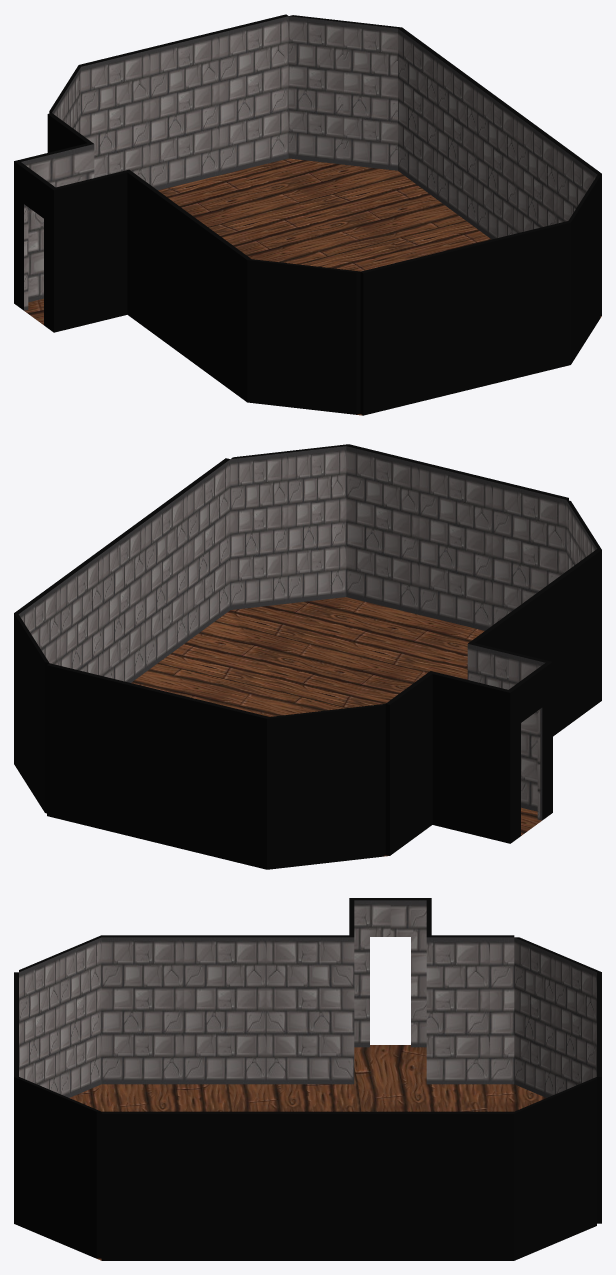
File: wall 3.fbx
3 views of the same model, one above another, from view 1: azimuth 30°, elevation 25°; view 2: azimuth 150°, elevation 25°; view 3: azimuth 270°, elevation 25° (orthographic). The views are drawn at different scales.
Parts seen in each view (by area): view 1: Plane085, Plane075, Plane079, Plane066, Plane076, Plane077, Plane070, Plane071, Plane069, Plane064, Plane063, Plane067 (+10 smaller); view 2: Plane085, Plane074, Plane080, Plane073, Plane064, Plane077, Plane069, Plane070, Plane071, Plane062, Plane076, Plane068 (+10 smaller); view 3: Plane085, Plane066, Plane073, Plane080, Plane068, Plane078, Plane082, Plane086, Plane067, Plane081, Plane083, Plane079 (+5 smaller).
Part boxes in pixels (<box>): Plane085: <box>24,158,601,415</box>; Plane075: <box>247,259,360,414</box>; Plane079: <box>288,15,401,170</box>; Plane066: <box>90,169,171,343</box>; Plane076: <box>360,254,432,415</box>; Plane077: <box>499,221,570,381</box>; Plane070: <box>217,14,288,174</box>; Plane071: <box>430,238,501,398</box>; Plane069: <box>148,31,219,190</box>; Plane064: <box>79,48,150,184</box>; Plane063: <box>34,175,92,332</box>; Plane067: <box>167,200,211,372</box>; Plane085: <box>131,597,541,856</box>; Plane074: <box>267,704,385,869</box>; Plane080: <box>230,444,347,609</box>; Plane073: <box>385,671,471,855</box>; Plane064: <box>193,699,268,869</box>; Plane077: <box>346,444,421,614</box>; Plane069: <box>120,681,195,851</box>; Plane070: <box>47,663,122,833</box>; Plane071: <box>419,462,494,630</box>; Plane062: <box>469,676,531,843</box>; Plane076: <box>493,480,568,624</box>; Plane068: <box>555,549,601,731</box>; Plane085: <box>70,1045,545,1260</box>; Plane066: <box>266,917,354,1084</box>; Plane073: <box>426,917,514,1084</box>; Plane080: <box>14,1077,101,1258</box>; Plane068: <box>101,935,184,1084</box>; Plane078: <box>431,1111,514,1260</box>; Plane082: <box>266,1111,349,1260</box>; Plane086: <box>101,1111,184,1260</box>; Plane067: <box>184,935,266,1084</box>; Plane081: <box>349,1111,431,1260</box>; Plane083: <box>184,1111,266,1260</box>; Plane079: <box>514,1077,596,1260</box>.
Size of the model in its own units: 6336 by 2012 by 7296.
